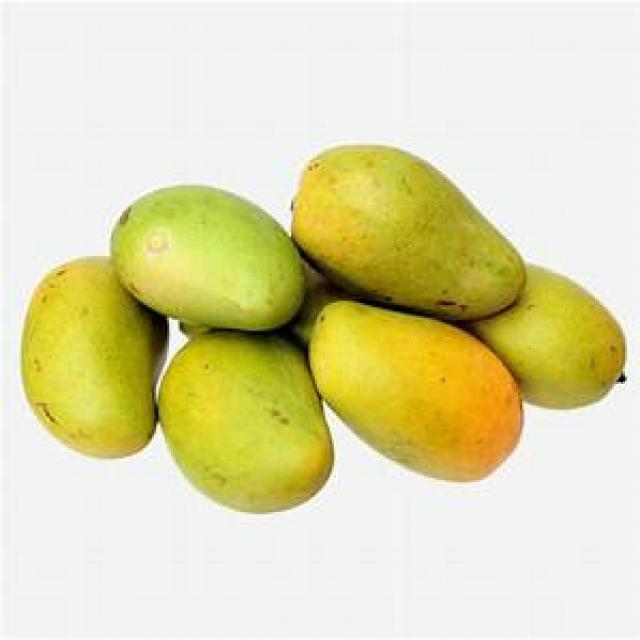Mango: (297, 141, 527, 304), (313, 302, 493, 480), (160, 334, 321, 516), (109, 183, 288, 330), (19, 306, 158, 462), (516, 266, 628, 410)
